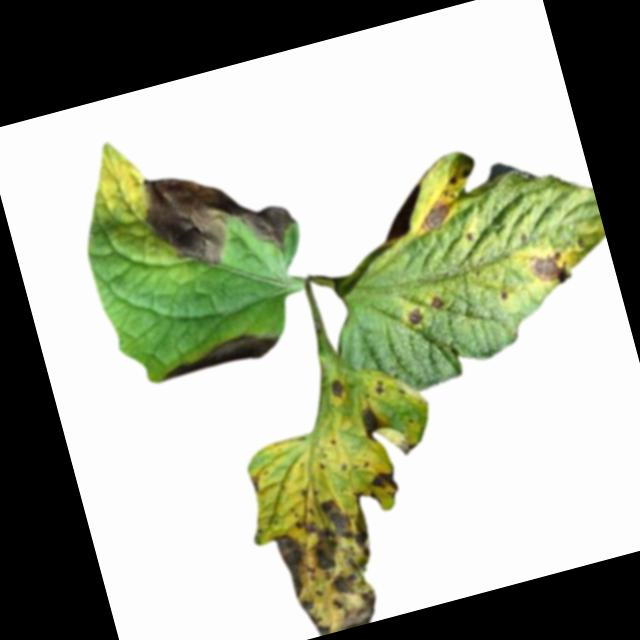Early_blight: (134, 143, 303, 283), (267, 487, 393, 640), (156, 325, 282, 390), (412, 192, 461, 235), (525, 245, 570, 290), (369, 464, 403, 500), (357, 402, 385, 445), (328, 374, 347, 398), (405, 304, 426, 325), (249, 472, 263, 495), (371, 378, 387, 398), (429, 290, 444, 307)
